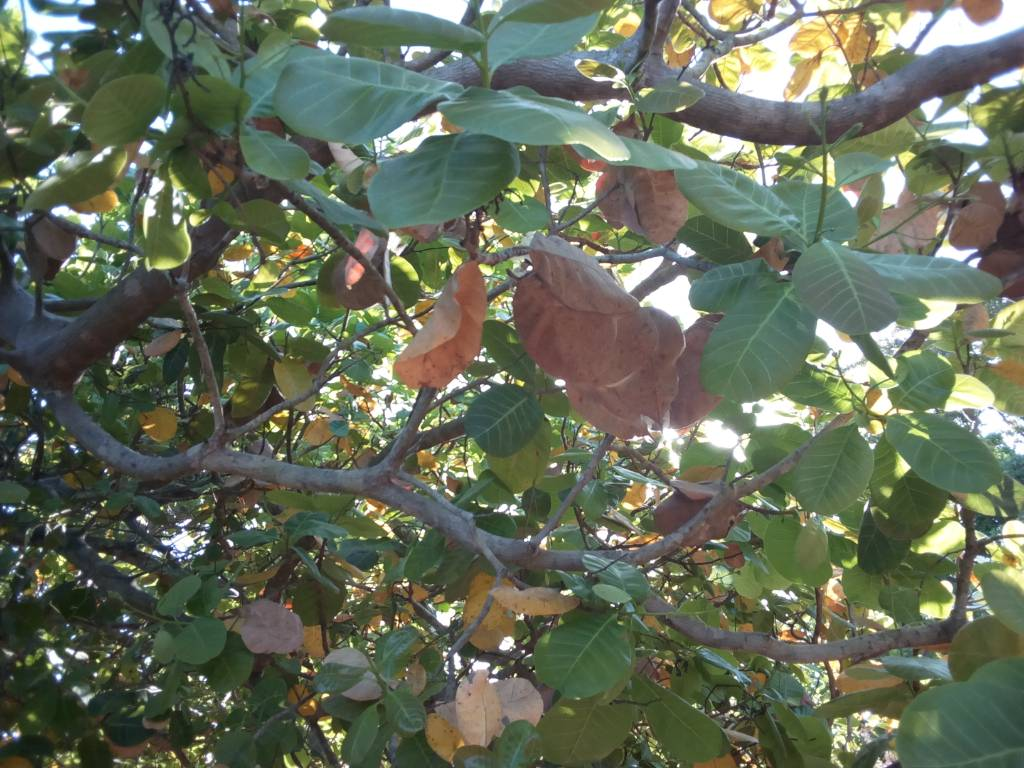Dessèchement des bourgeons: (158, 9, 203, 108)
